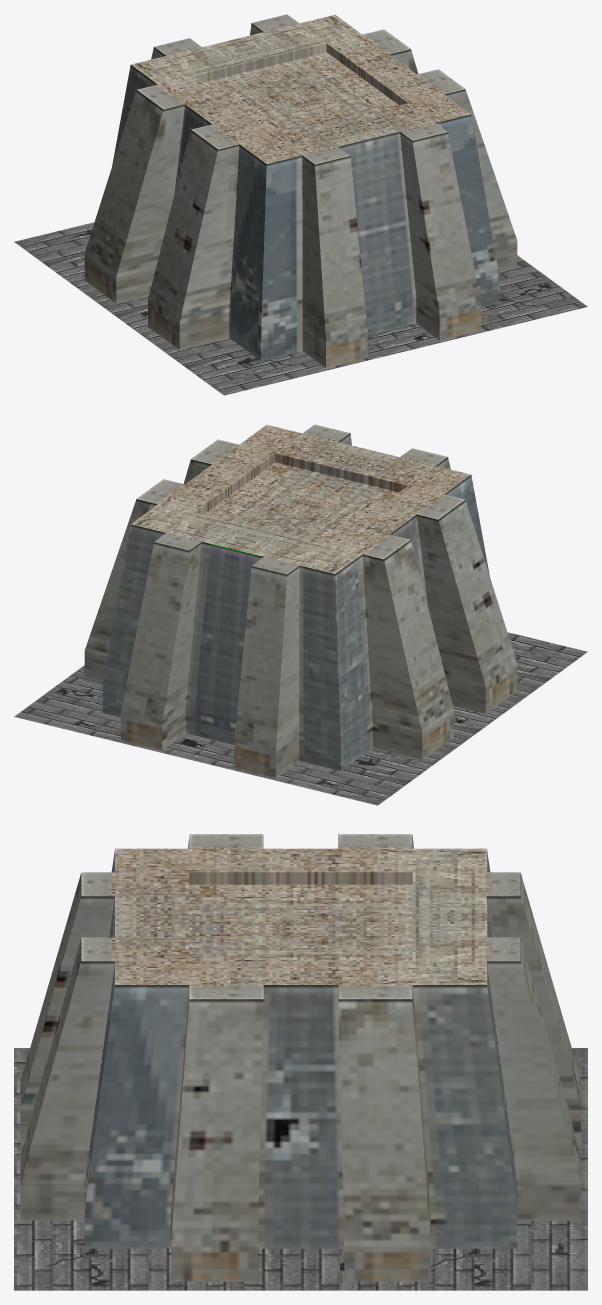
Rendered from ShoppingMall.obj.
3 views of the same model, one above another, from view 1: azimuth 30°, elevation 25°; view 2: azimuth 150°, elevation 25°; view 3: azimuth 270°, elevation 25° (orthographic). The views are drawn at different scales.
Visible parts, largest first — view 1: Box005, Tile004; view 2: Box005, Tile004; view 3: Box005, Tile004.
Boxes of the visible parts, box(x1,y1,x2,y2) form: Box005: box(84, 14, 517, 367); Tile004: box(14, 222, 587, 395); Box005: box(84, 424, 517, 777); Tile004: box(14, 632, 587, 805); Box005: box(20, 834, 581, 1281); Tile004: box(14, 1048, 587, 1290).
Size of the model in its own units: 384 by 186 by 384.
